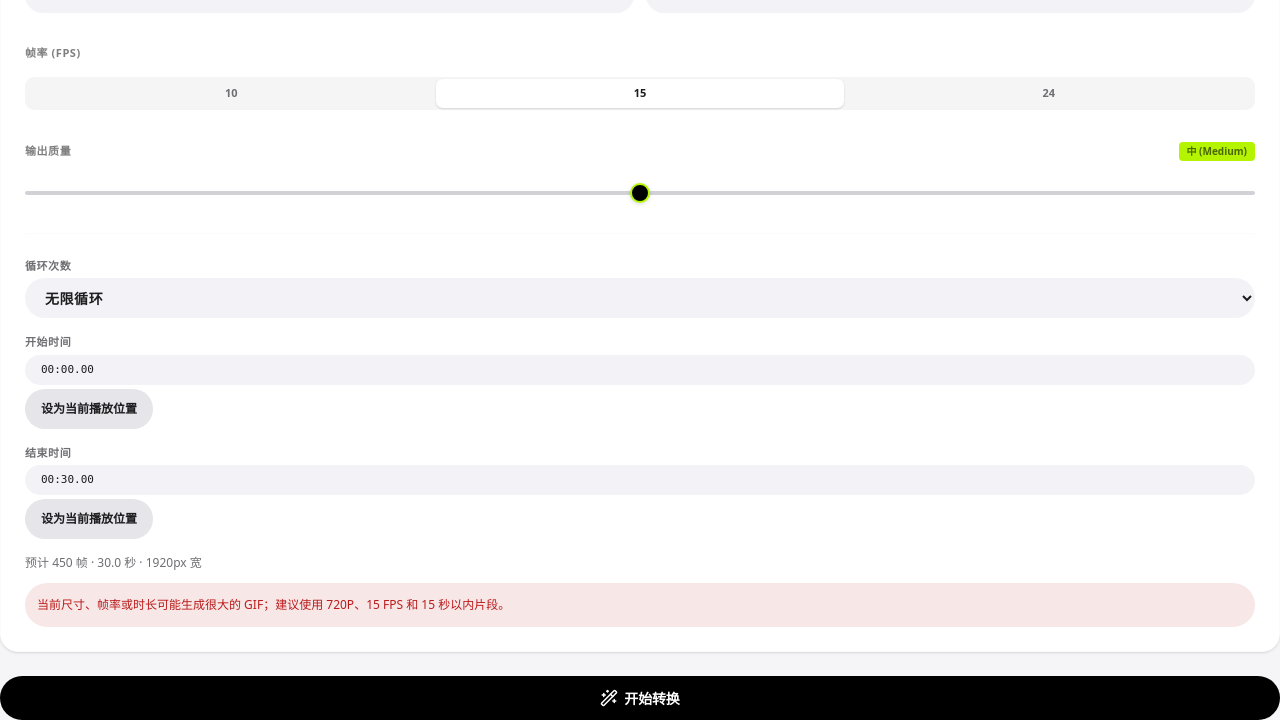
Test: GifMaker time range validation › proceeds with create_gif and shows completion status for a valid range
The image size is (1280, 720).
(page scrolled)
Type "01:00.00" into the field labelled "开始时间". click: (640, 370)
box: [25, 354, 1255, 384]
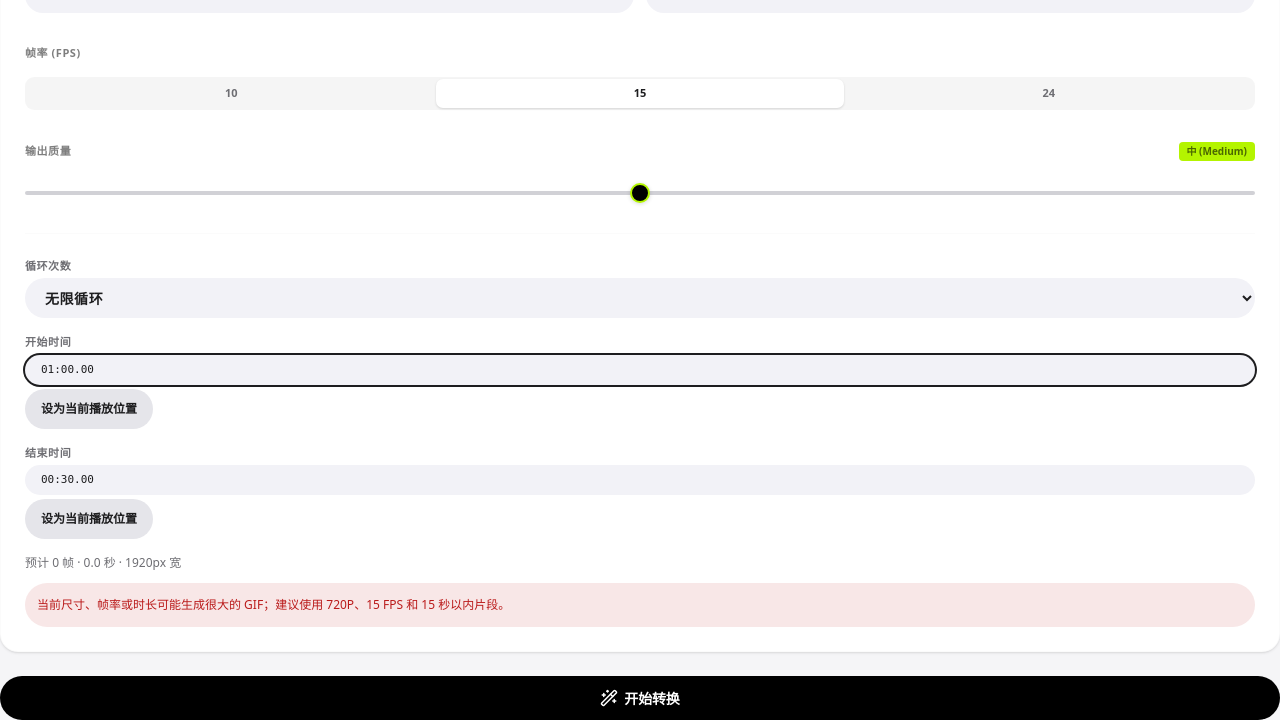
Replace the text in the field labelled "结束时间" with "02:30.00". click: (640, 480)
box: [25, 465, 1255, 495]
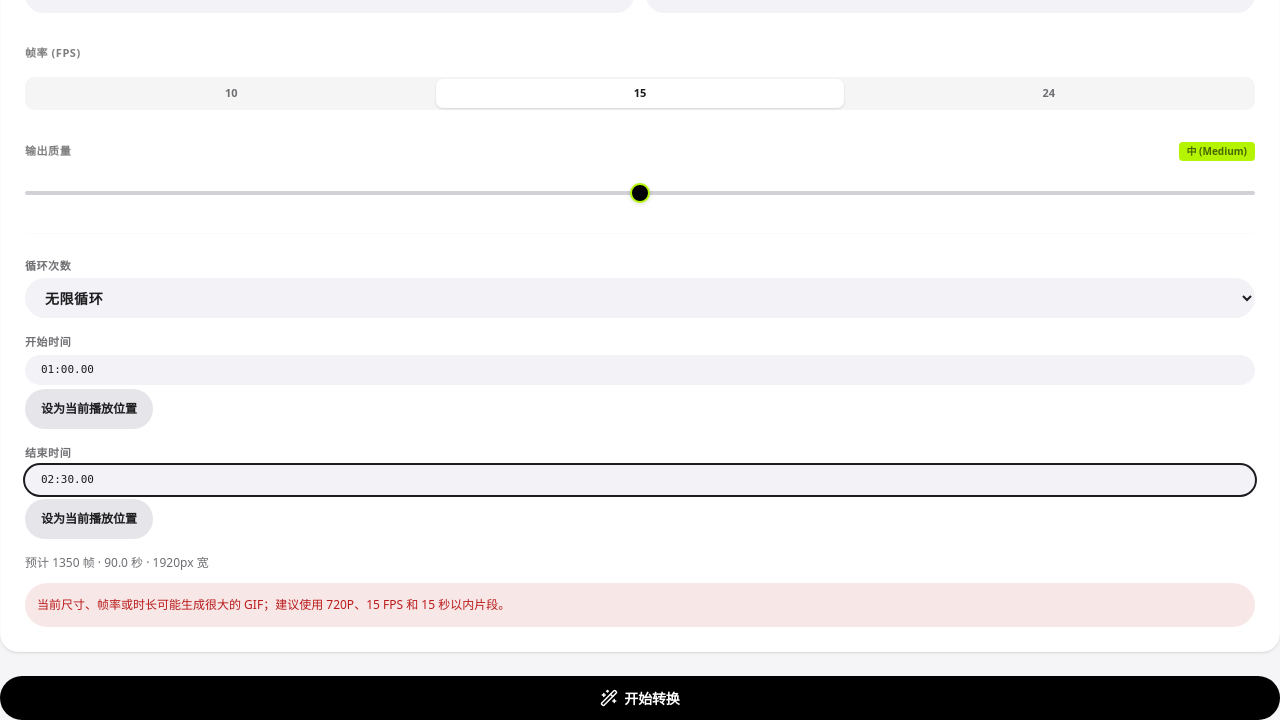
Click the button "开始转换". click: (640, 698)
box: [0, 676, 1279, 719]
(page scrolled)
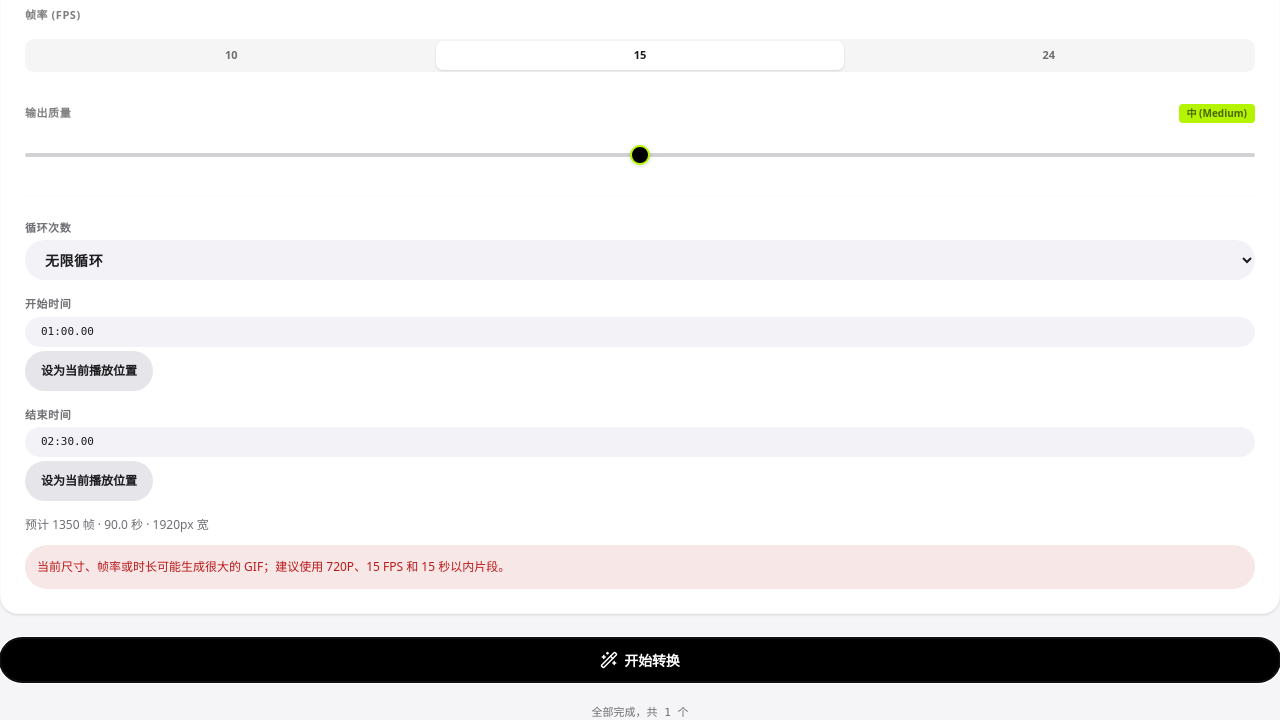
Result: the text "全部完成，共 1 个" is shown at [592, 706, 688, 719]
